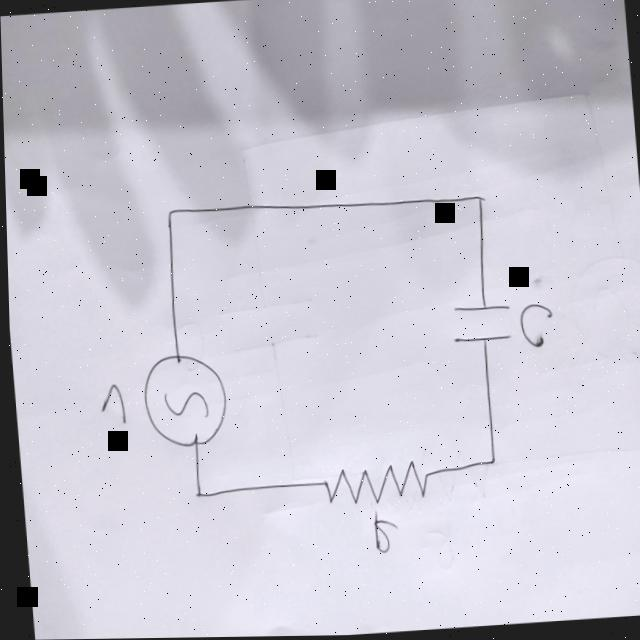capacitor: (445, 301, 516, 350)
junction: (186, 486, 205, 506), (480, 455, 497, 473), (471, 193, 488, 211), (161, 205, 176, 224)
resistor: (308, 456, 445, 518)
source: (135, 350, 229, 454)
text: (515, 302, 553, 353), (95, 382, 125, 428), (368, 519, 394, 558)
